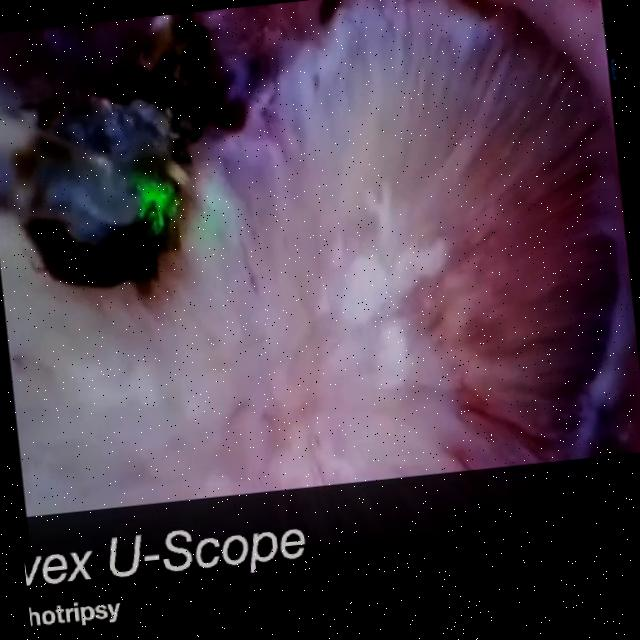laser-fibre: (0, 107, 136, 223)
laser_dot: (130, 173, 177, 240)
stone-new: (10, 12, 209, 290)
